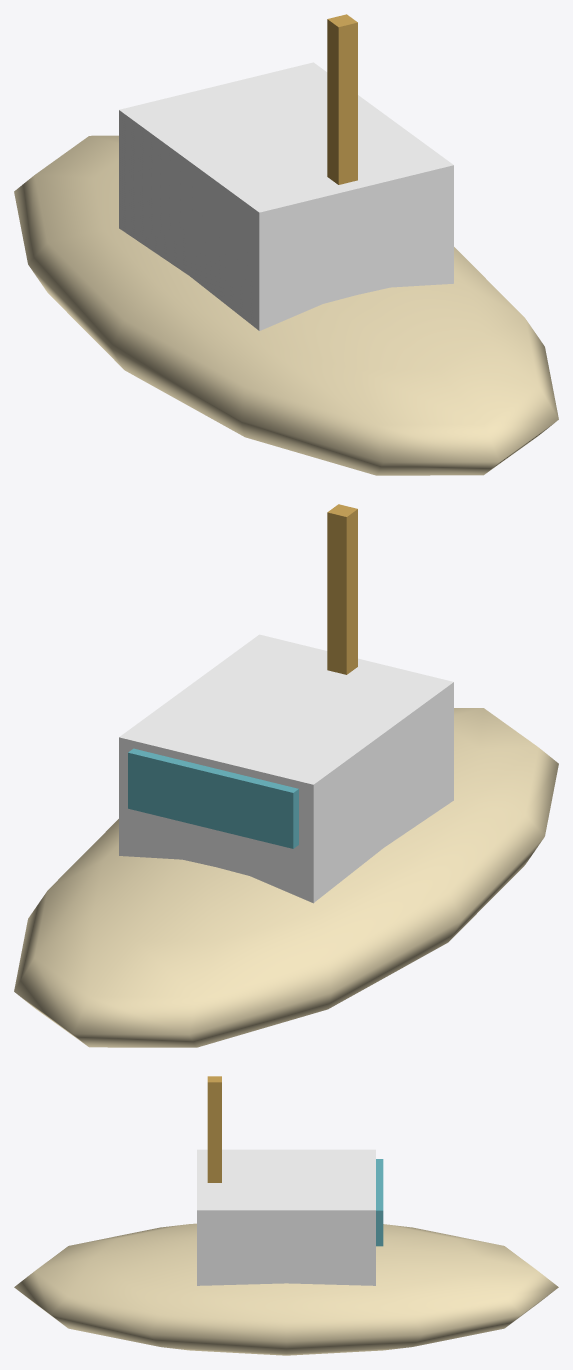
Rendered from boat.glb.
The picture shows the model from 3 angles, top to bottom: view 1: azimuth 30°, elevation 25°; view 2: azimuth 150°, elevation 25°; view 3: azimuth 270°, elevation 25°; orthographic projection. The views are drawn at different scales.
Visible parts, largest first — view 1: boat; view 2: boat; view 3: boat.
Boxes of the visible parts, box(x1,y1,x2,y2) form: boat: box(14, 14, 558, 475); boat: box(14, 504, 558, 1047); boat: box(14, 1076, 558, 1355).
Size of the model in its own units: 3.6 by 3.85 by 7.6.
